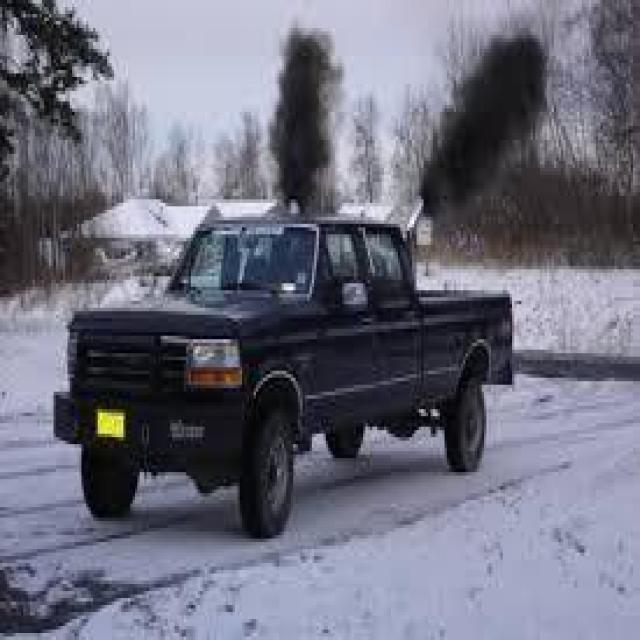Smoke: (424, 29, 548, 219), (270, 16, 342, 213)
